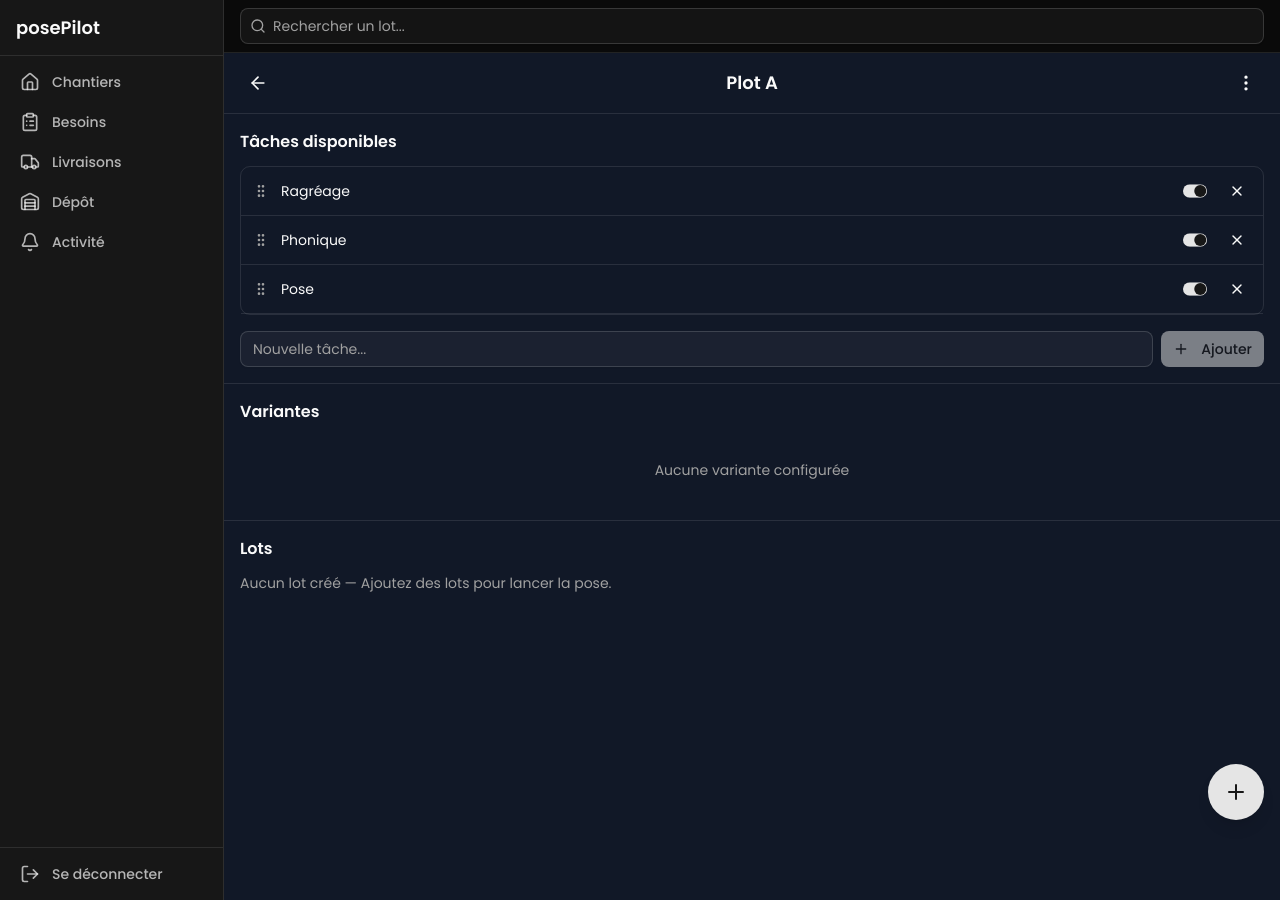
Test: PlotDetailPage — delete plot › shows delete dialog when "Supprimer le plot" is clicked
Check: the heading "Plot A" is shown, box 726,69 -> 778,97
Step 1. Click the button named "Options du plot" → (1246, 83), box 1228,65 -> 1264,101
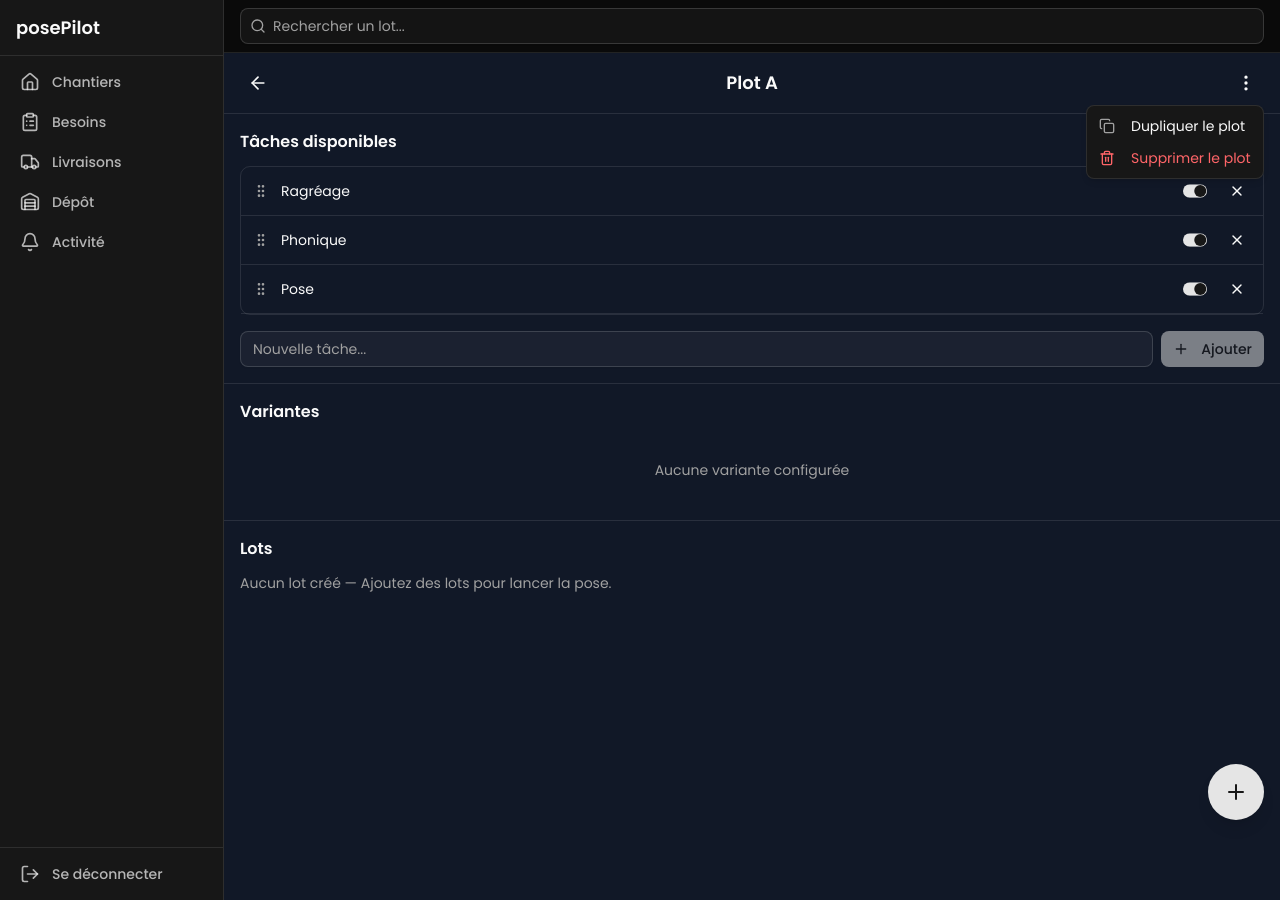
Step 2. Click the menu item "Supprimer le plot" → (1175, 158), box 1091,142 -> 1259,174
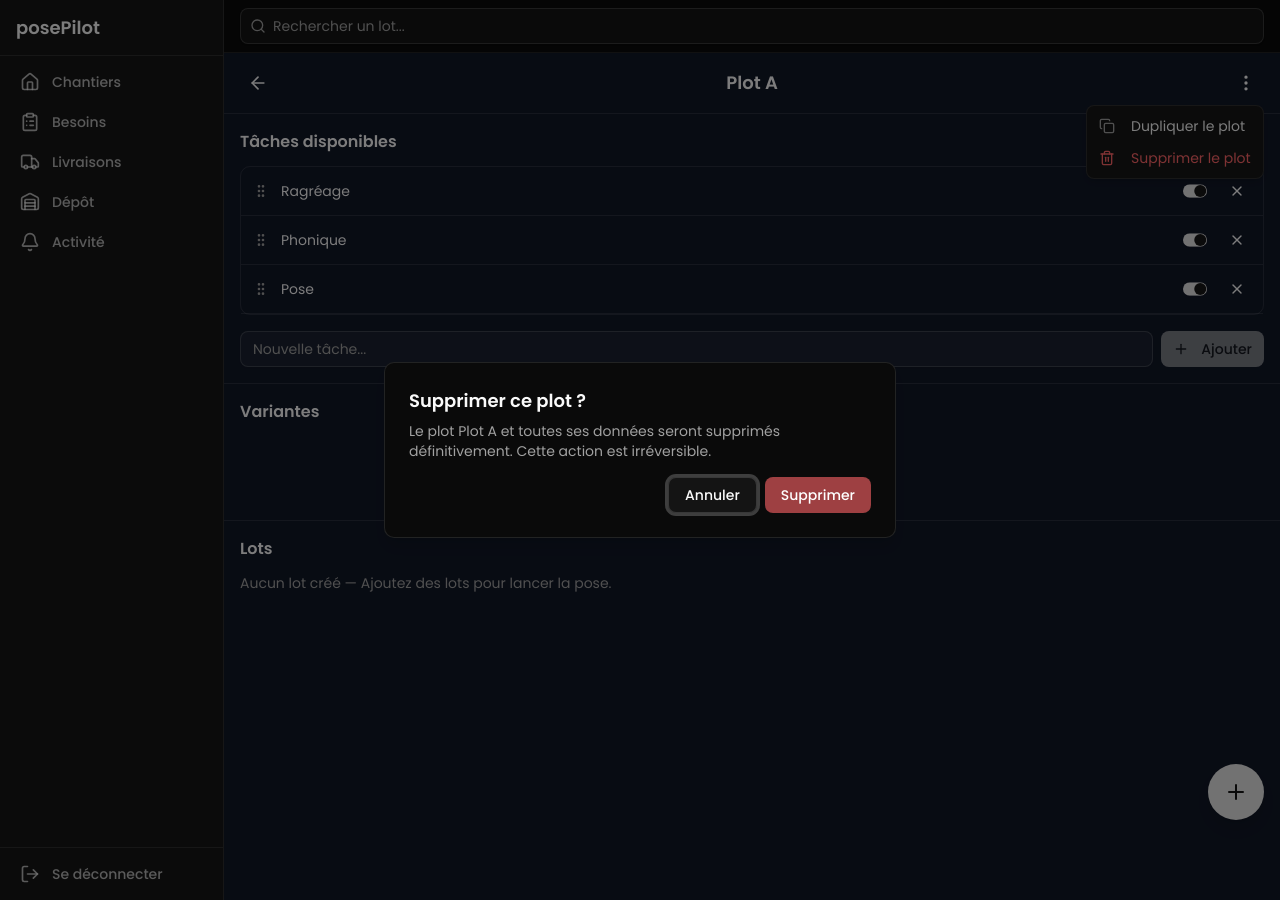
Check: the dialog is shown, box 384,362 -> 896,538
Check: the heading "Supprimer ce plot ?" is shown, box 409,387 -> 586,415
Check: the text "Plot A et toutes ses données seront supprimés" is shown, box 409,421 -> 780,461
